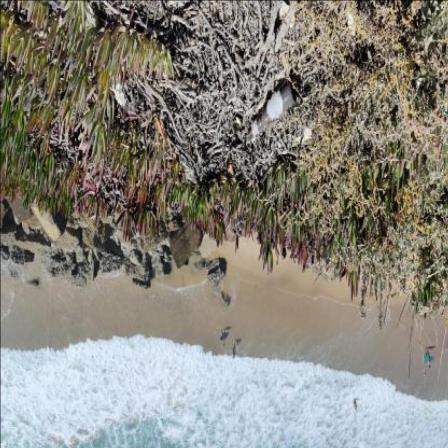Bottle: (249, 82, 297, 141)
Paper: (111, 78, 127, 108)
Plastic bag - wrapper: (279, 2, 290, 17)
Unlabeled litter: (348, 15, 355, 35)
